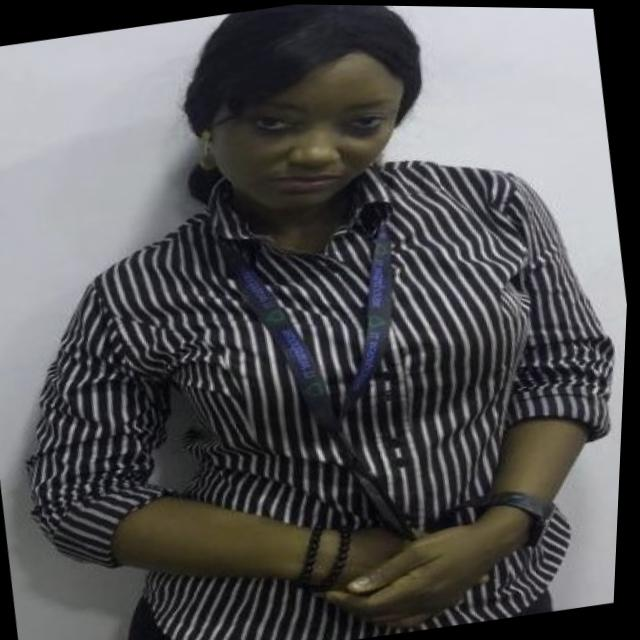sad: (179, 4, 449, 230)
